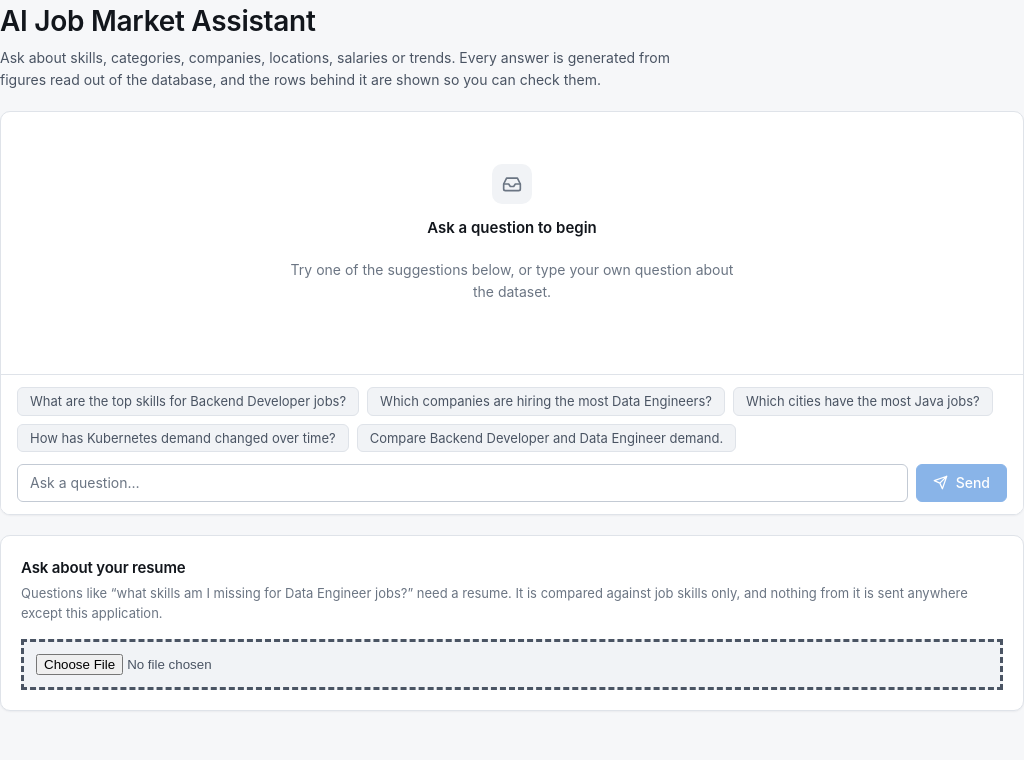
Test: AiAssistant › renders a chart when the backend asks for one
This screenshot has width=1024, height=760.
In the field named "Your question": point(462, 483) top-left (17, 464), bottom-right (908, 502), type "top skills"
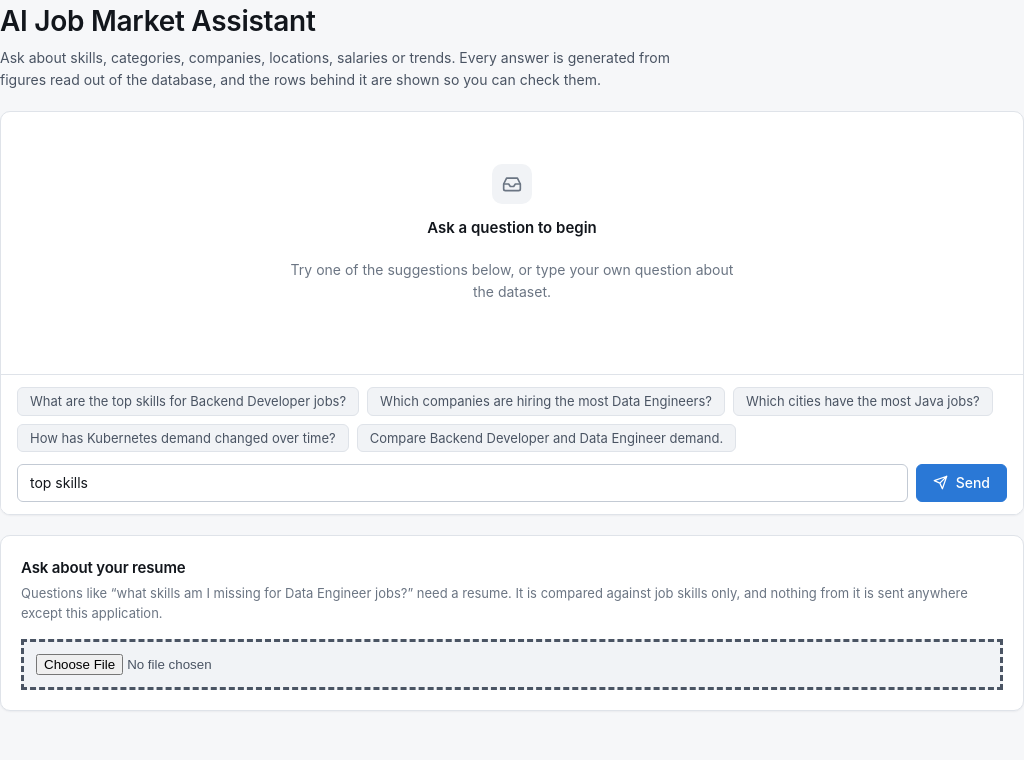
Click the button "Send": point(961, 483) top-left (916, 464), bottom-right (1007, 502)
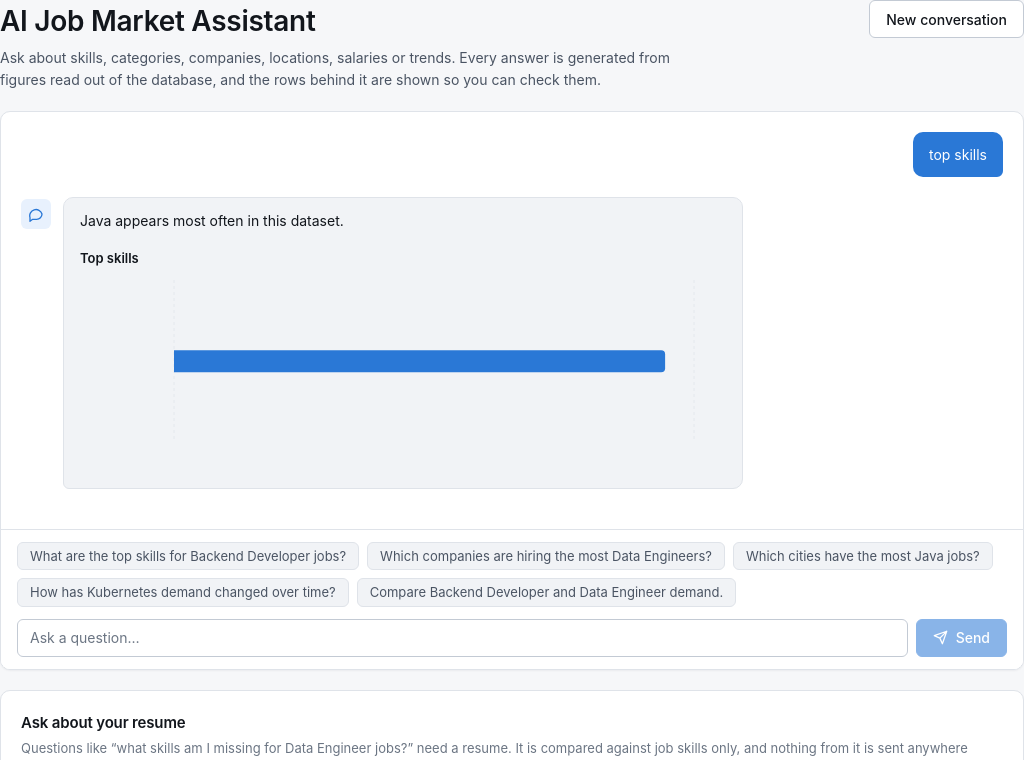
Now the text "Java appears most often in this dataset." is shown, box top-left (80, 212), bottom-right (344, 230)
Now the text "Top skills" is shown, box top-left (80, 250), bottom-right (139, 266)
Now the icon below "Java appears most often in this dataset." is shown, box top-left (80, 276), bottom-right (726, 476)
